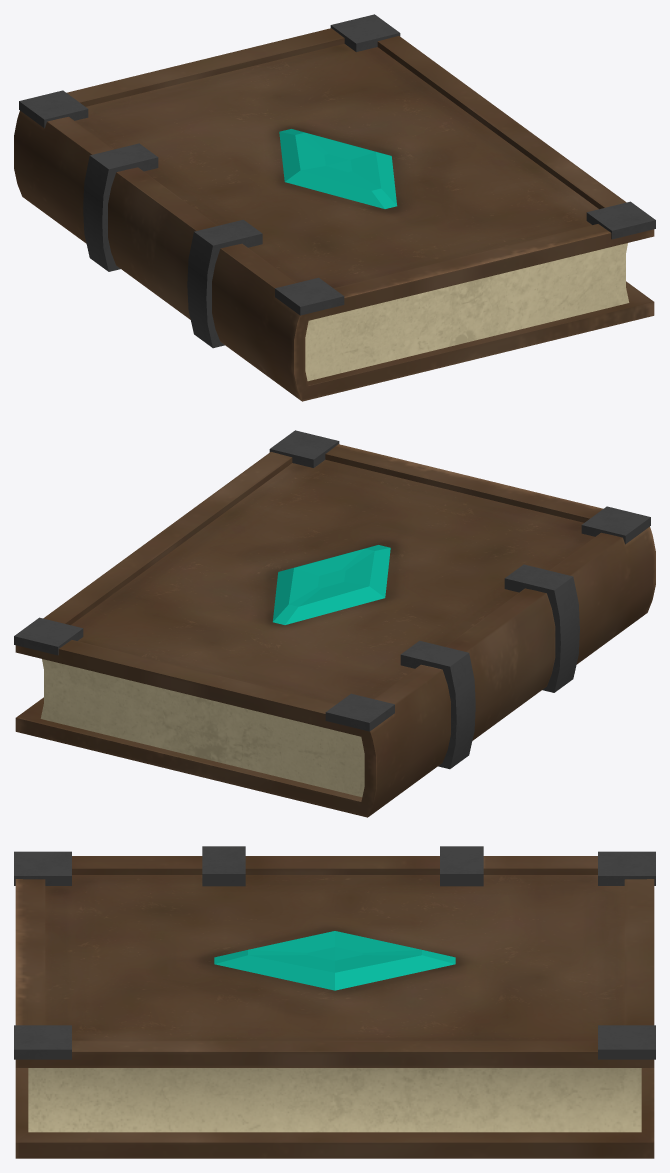
The model's file is SpellBook.fbx.
3 views of the same model, one above another, from view 1: azimuth 30°, elevation 25°; view 2: azimuth 150°, elevation 25°; view 3: azimuth 270°, elevation 25° (orthographic). The views are drawn at different scales.
Visible parts, largest first — view 1: SpellBook; view 2: SpellBook; view 3: SpellBook.
Boxes of the visible parts, x1,y1,x2,y2 form: SpellBook: (14,14,655,401); SpellBook: (14,430,655,817); SpellBook: (14,846,655,1158).
Size of the model in its own units: 11.13 by 2.97 by 14.76.
